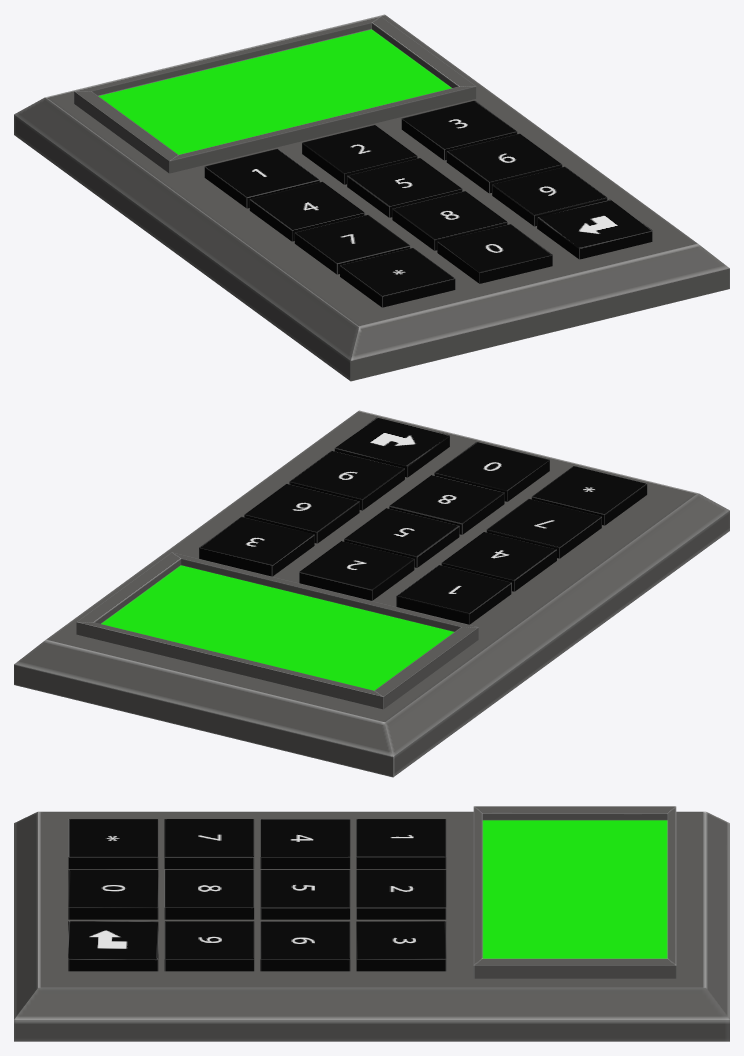
Rendered from Asset_KeyPad.fbx.
3 views of the same model, one above another, from view 1: azimuth 30°, elevation 25°; view 2: azimuth 150°, elevation 25°; view 3: azimuth 270°, elevation 25° (orthographic). The views are drawn at different scales.
Parts seen in each view (by area): view 1: polySurface15, polySurface1, polySurface11, polySurface6, polySurface10, polySurface14, polySurface4, polySurface5, polySurface8, polySurface9, polySurface13, polySurface12 (+2 smaller); view 2: polySurface15, polySurface1, polySurface7, polySurface3, polySurface13, polySurface6, polySurface9, polySurface10, polySurface12, polySurface14, polySurface5, polySurface8 (+2 smaller); view 3: polySurface15, polySurface1, polySurface7, polySurface8, polySurface9, polySurface10, polySurface11, polySurface12, polySurface13, polySurface14, polySurface3, polySurface4 (+2 smaller).
Part boxes in pixels (x1,y1,x2,y2): polySurface15: (14, 14, 729, 381); polySurface1: (98, 29, 451, 154); polySurface11: (537, 199, 652, 259); polySurface6: (340, 248, 455, 307); polySurface10: (437, 224, 552, 283); polySurface14: (446, 133, 562, 193); polySurface4: (249, 181, 365, 241); polySurface5: (294, 214, 410, 274); polySurface8: (347, 158, 462, 217); polySurface9: (392, 191, 507, 250); polySurface13: (401, 100, 517, 160); polySurface12: (492, 166, 607, 226); polySurface15: (14, 410, 729, 777); polySurface1: (101, 565, 453, 690); polySurface7: (299, 541, 414, 600); polySurface3: (396, 565, 511, 624); polySurface13: (199, 516, 314, 576); polySurface6: (531, 465, 647, 525); polySurface9: (389, 475, 504, 534); polySurface10: (434, 442, 549, 501); polySurface12: (289, 450, 404, 510); polySurface14: (244, 483, 359, 543); polySurface5: (486, 499, 601, 558); polySurface8: (344, 508, 459, 567); polySurface15: (14, 806, 729, 1041); polySurface1: (482, 820, 667, 958); polySurface7: (356, 869, 446, 919); polySurface8: (260, 869, 350, 919); polySurface9: (164, 869, 254, 919); polySurface10: (68, 869, 158, 919); polySurface11: (68, 921, 158, 971); polySurface12: (164, 921, 254, 971); polySurface13: (356, 921, 446, 971); polySurface14: (260, 921, 350, 971); polySurface3: (356, 819, 446, 868); polySurface4: (260, 819, 350, 868).
Bounding box in the file's own units: 36.58 × 4.93 × 56.28.
1 material, 1 textured.
